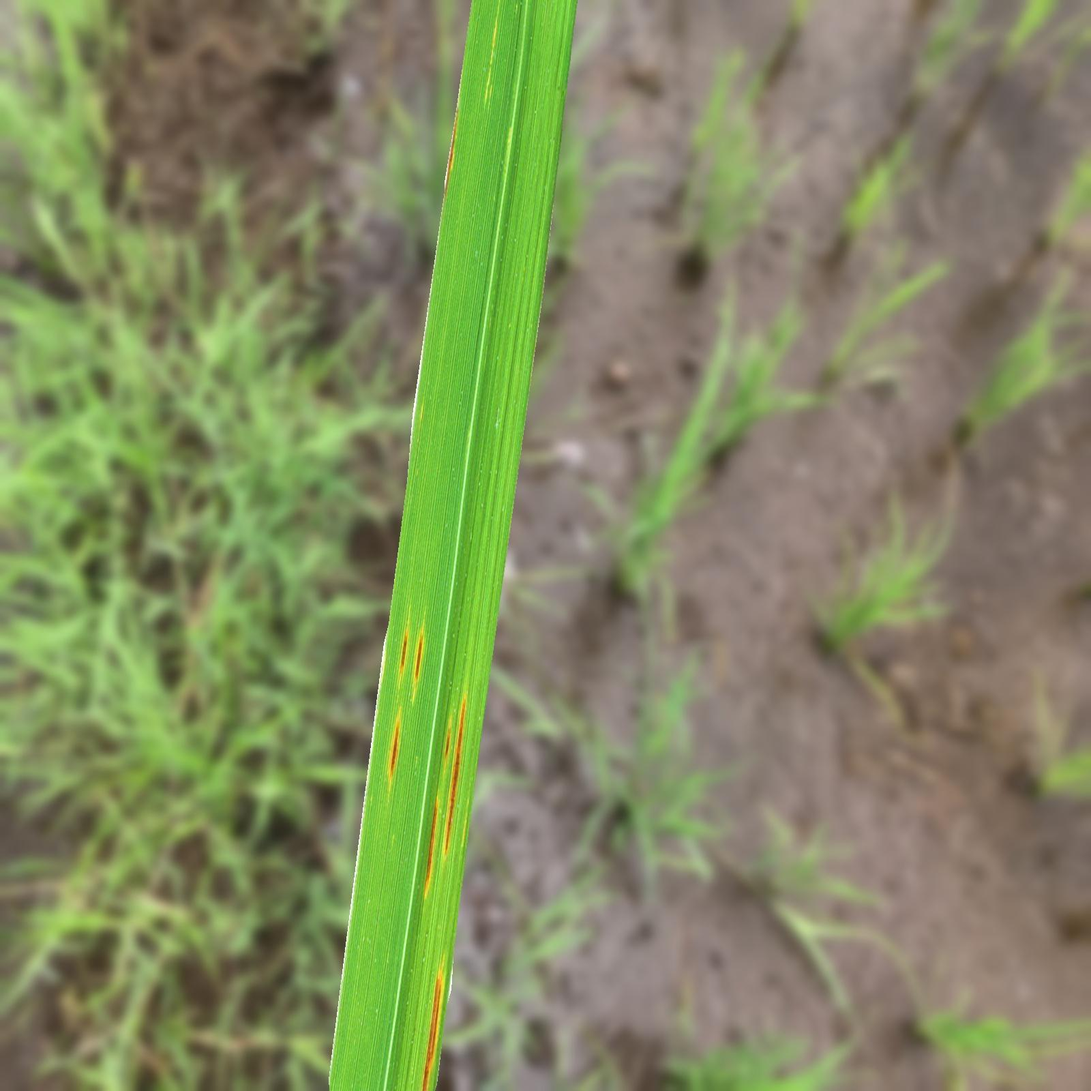LEAF: (329, 0, 577, 1090)
NBS: (445, 693, 466, 854), (422, 967, 441, 1090), (424, 797, 437, 897), (445, 108, 457, 200), (388, 709, 400, 782), (415, 626, 424, 694), (400, 627, 407, 674), (445, 717, 450, 764)
